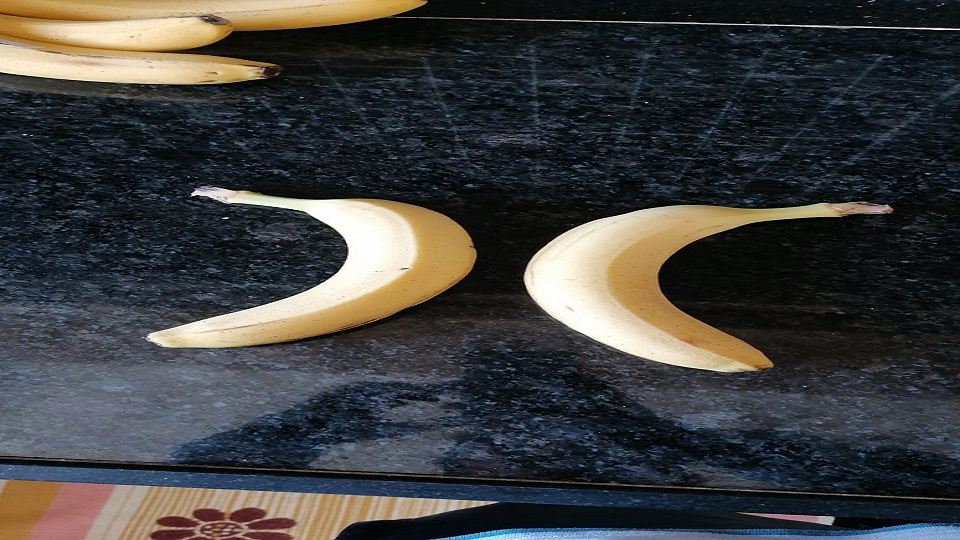muz: (521, 199, 888, 376), (149, 185, 480, 351)
